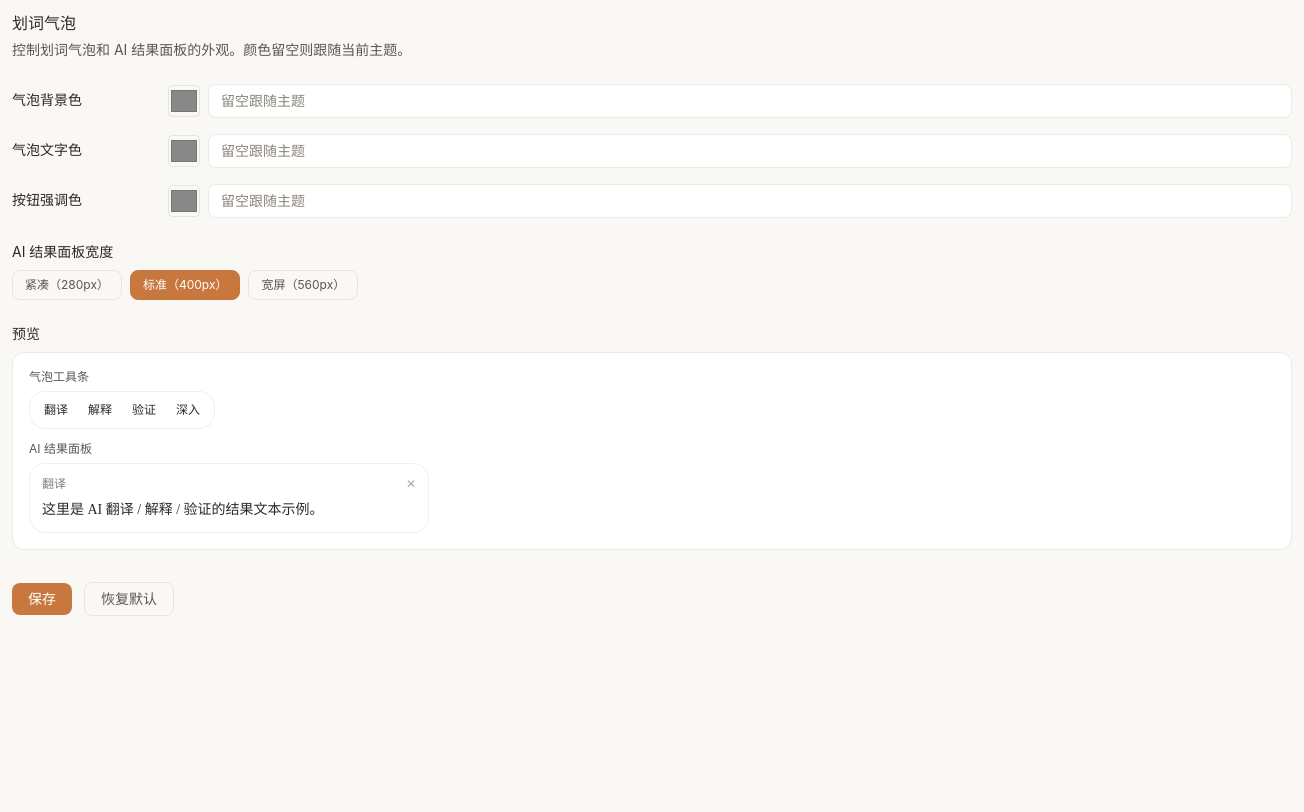
Test: SelectionAppearance › keeps the draft and reports an alert when saving fails
The width and height of the screenshot is (1304, 812).
Type "#445566" into the field named "气泡背景色颜色值" at point(750, 101), box [208,84,1292,118]
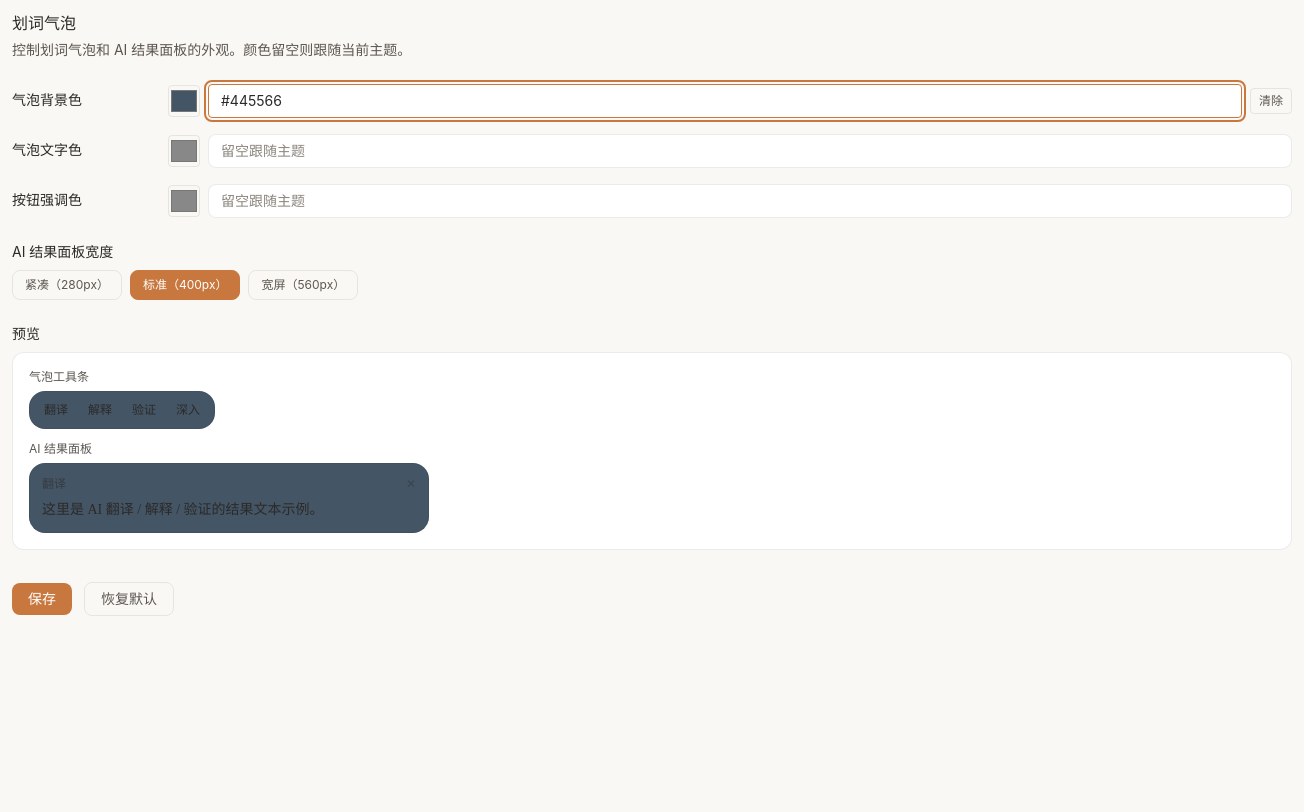
Click the button "宽屏（560px）" at point(303, 285), box [248,270,358,300]
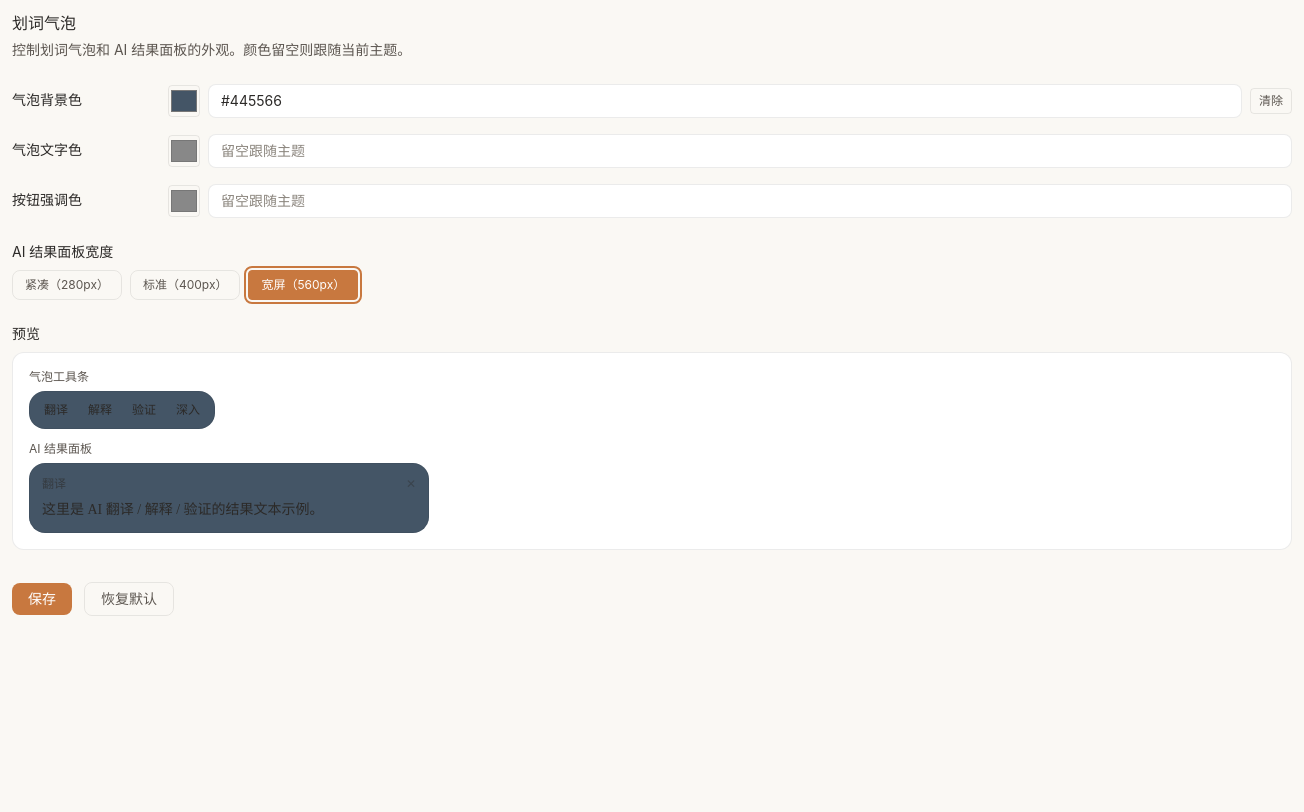
Click the button "保存" at point(42, 599), box [12,583,72,615]
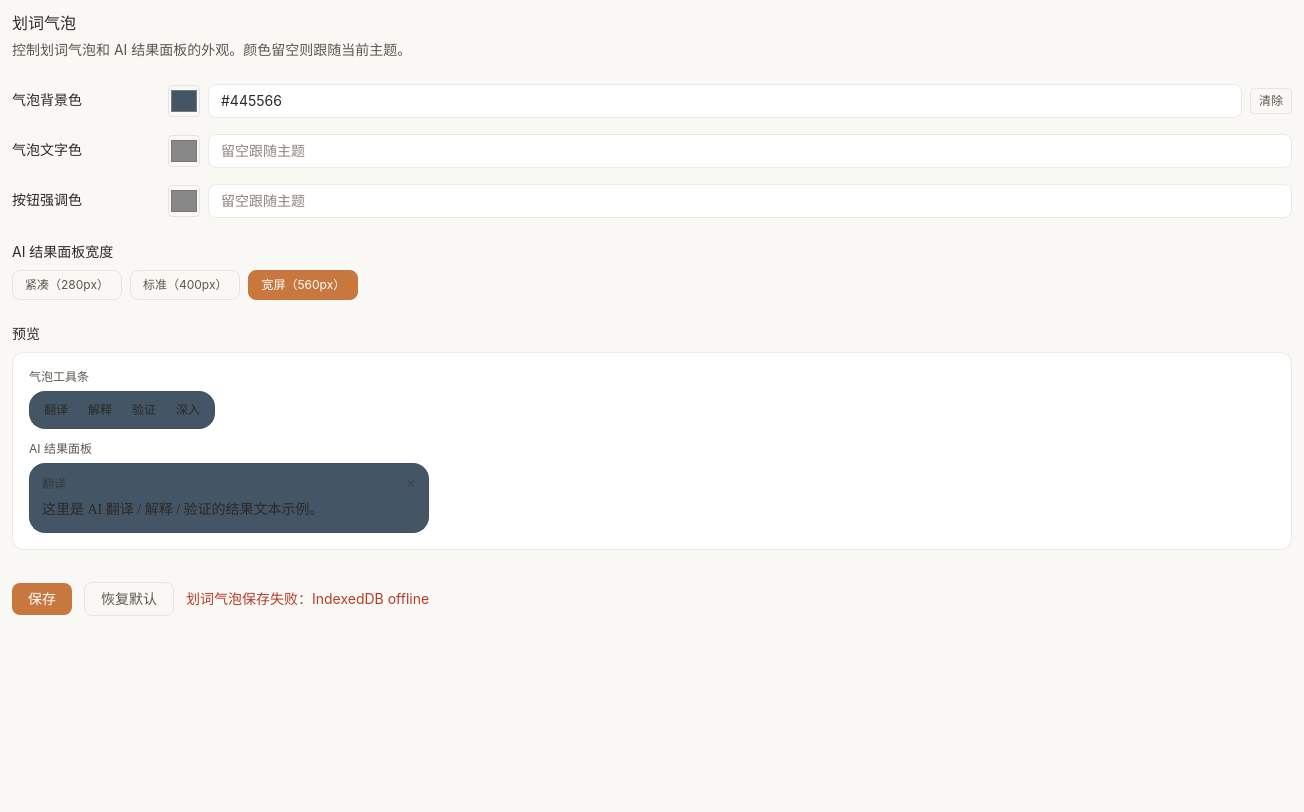
Result: the message reads "划词气泡保存失败：IndexedDB offline" at [186,590,429,607]
